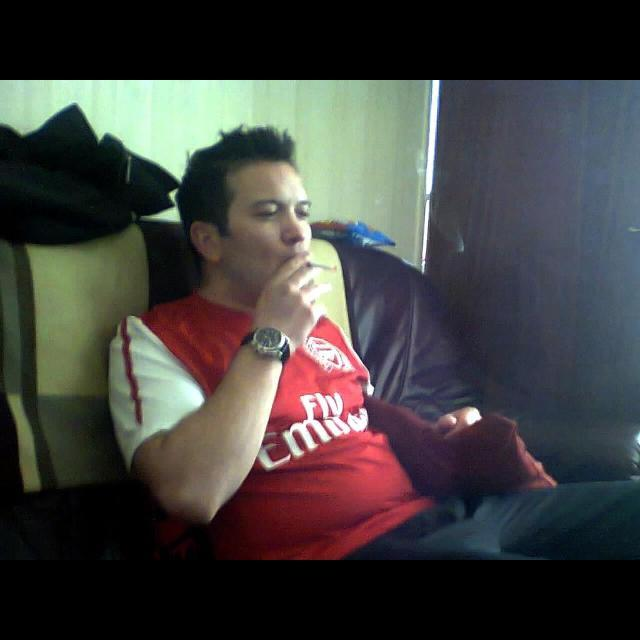rokok: (300, 258, 342, 274)
